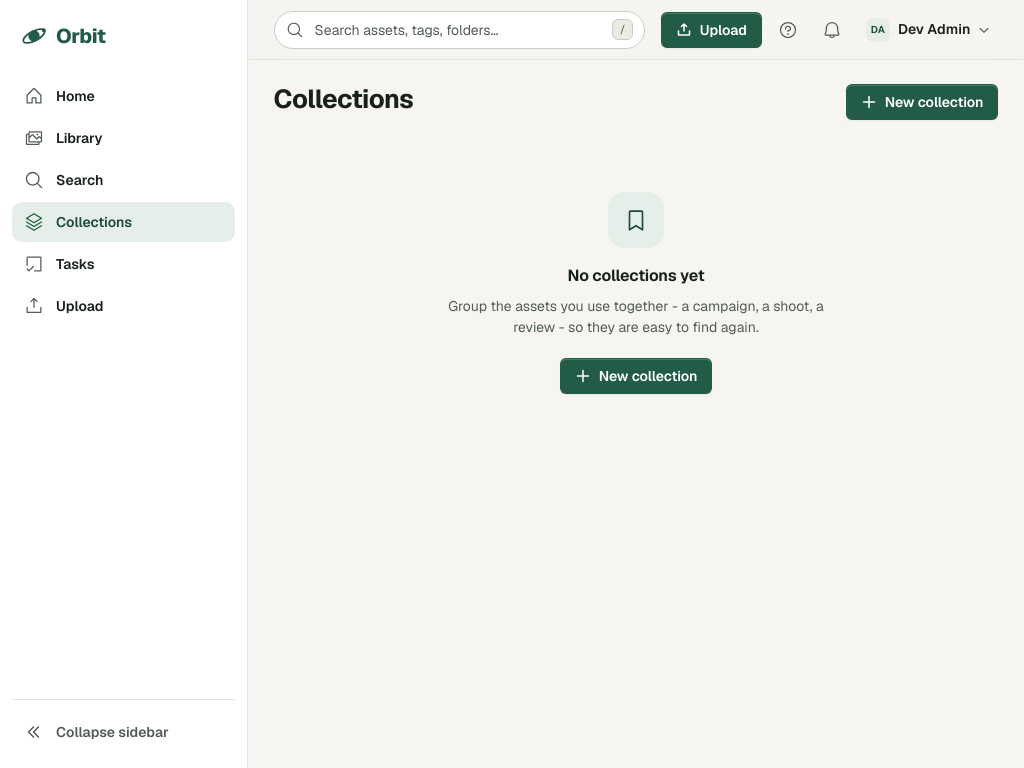
it: CollectionsPage › creates an empty static collection from the New collection dialog and opens it
Expected: the heading "No collections yet" is shown, [568,264,704,288]
Click the 1st button "New collection" at (922, 102), box [846,84,998,120]
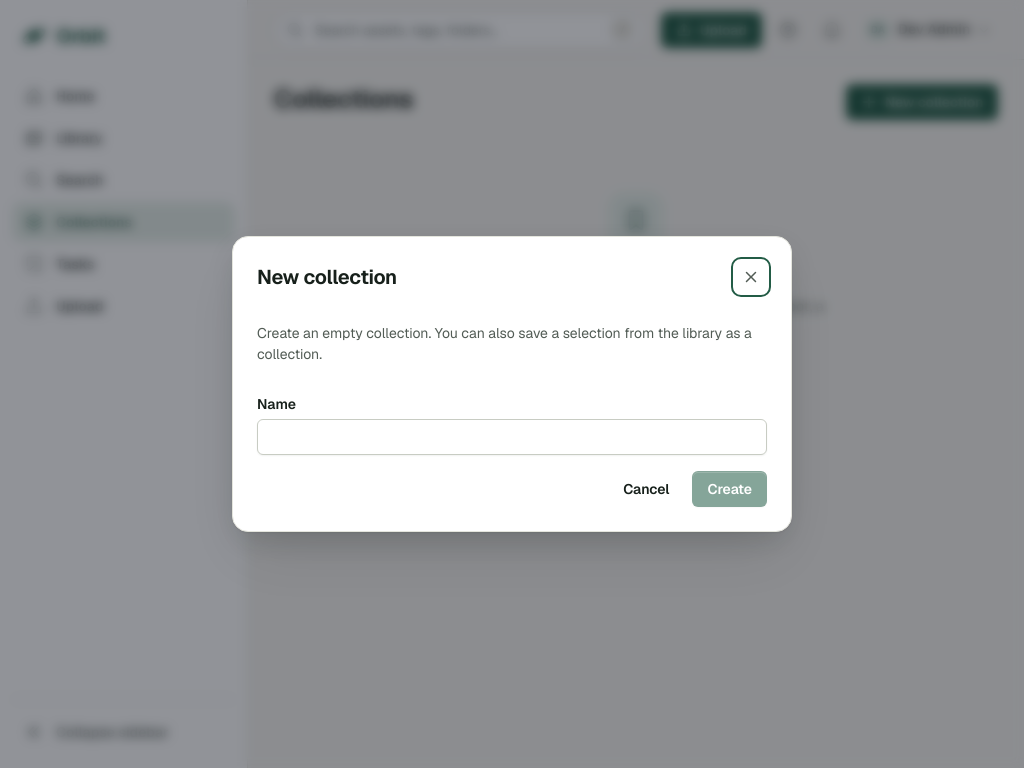
Expected: the button "Create" is disabled, [692,471,767,507]
Type "Spring review" into the field labelled "Name" at (512, 437), box [257,419,767,455]
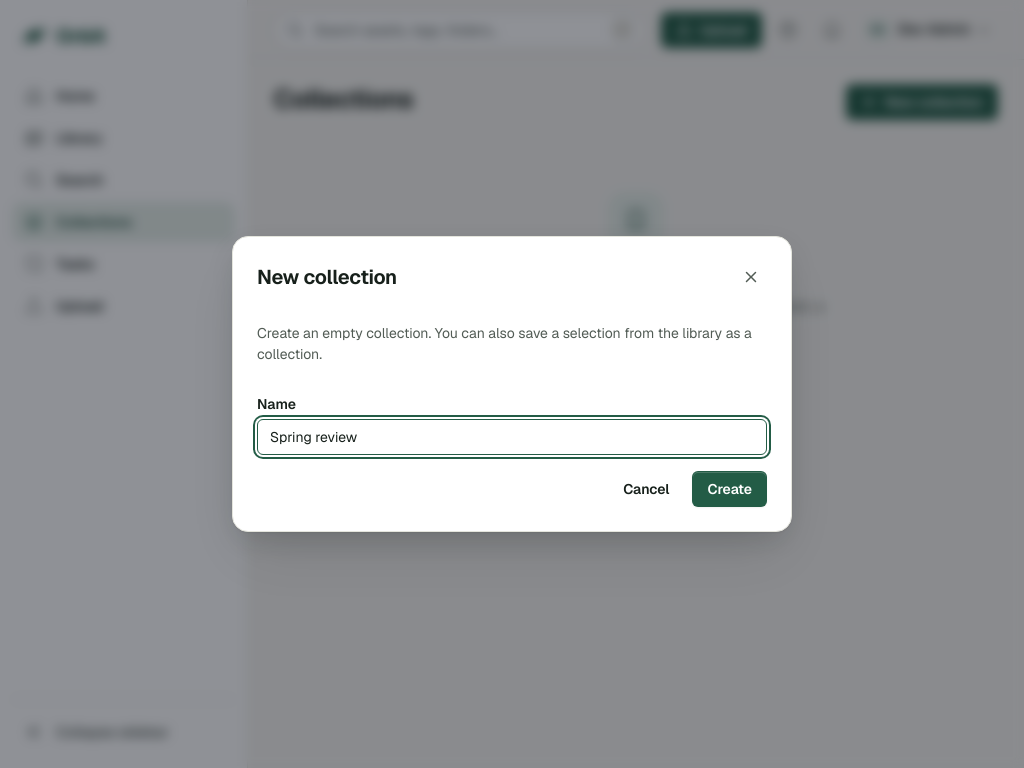
Click the button "Create" at (730, 489), box [692,471,767,507]
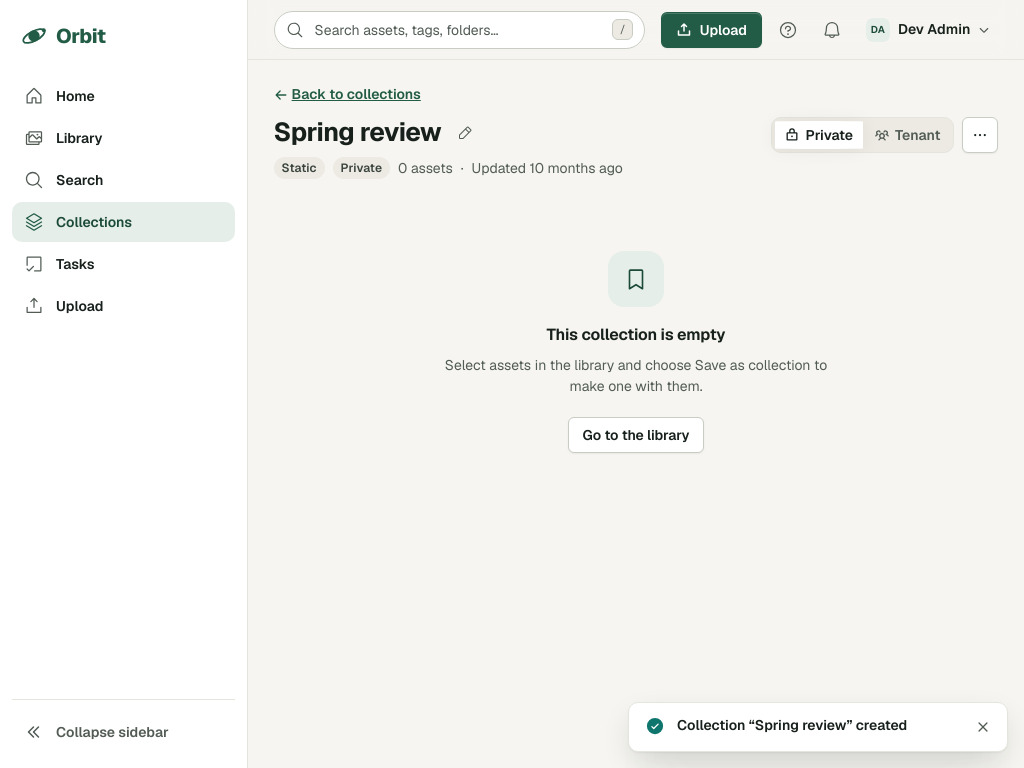
Expected: the heading "Spring review" is shown, [274,117,441,149]
Expected: the heading "This collection is empty" is shown, [547,323,725,347]
